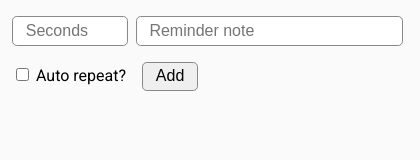
it: AddTimeForm component › should clear form field values after submission
In the field with placeholder "Seconds": (70, 31) [12, 16, 128, 46], type "30"
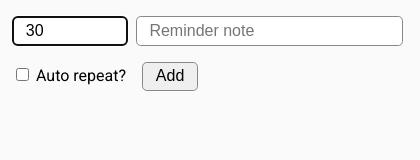
In the field with placeholder "Reminder note": (269, 31) [136, 16, 403, 46], type "Stretch time"
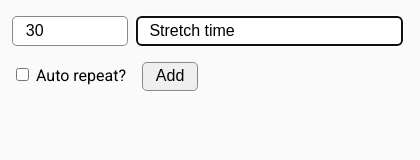
Click the checkbox labelled "Auto repeat?": (22, 75) [16, 68, 29, 81]
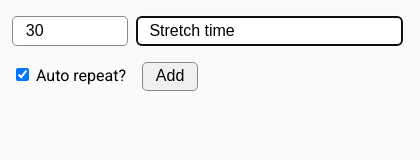
Result: the checkbox labelled "Auto repeat?" is checked at [16, 68, 29, 81]
Click the button: (170, 76) [142, 62, 198, 91]
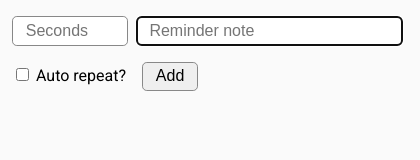
Result: the checkbox labelled "Auto repeat?" is not checked at [16, 68, 29, 81]
Result: the field with placeholder "Seconds" is empty at [12, 16, 128, 46]
Result: the field with placeholder "Reminder note" is empty at [136, 16, 403, 46]
